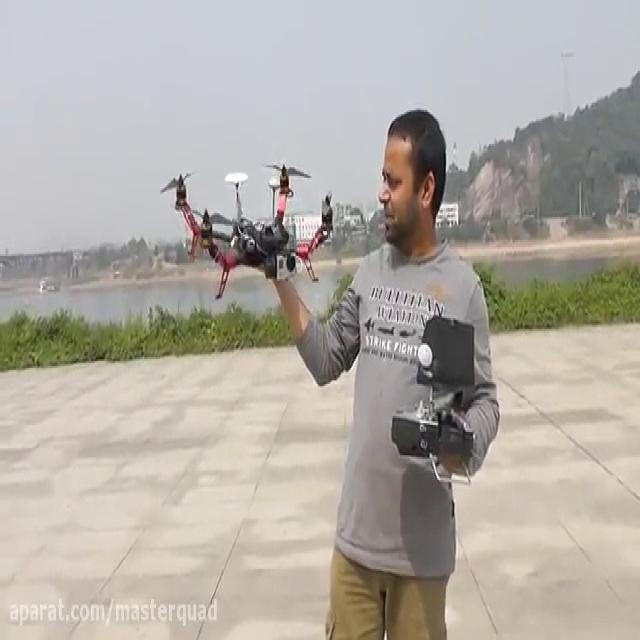drone: (157, 154, 340, 300)
